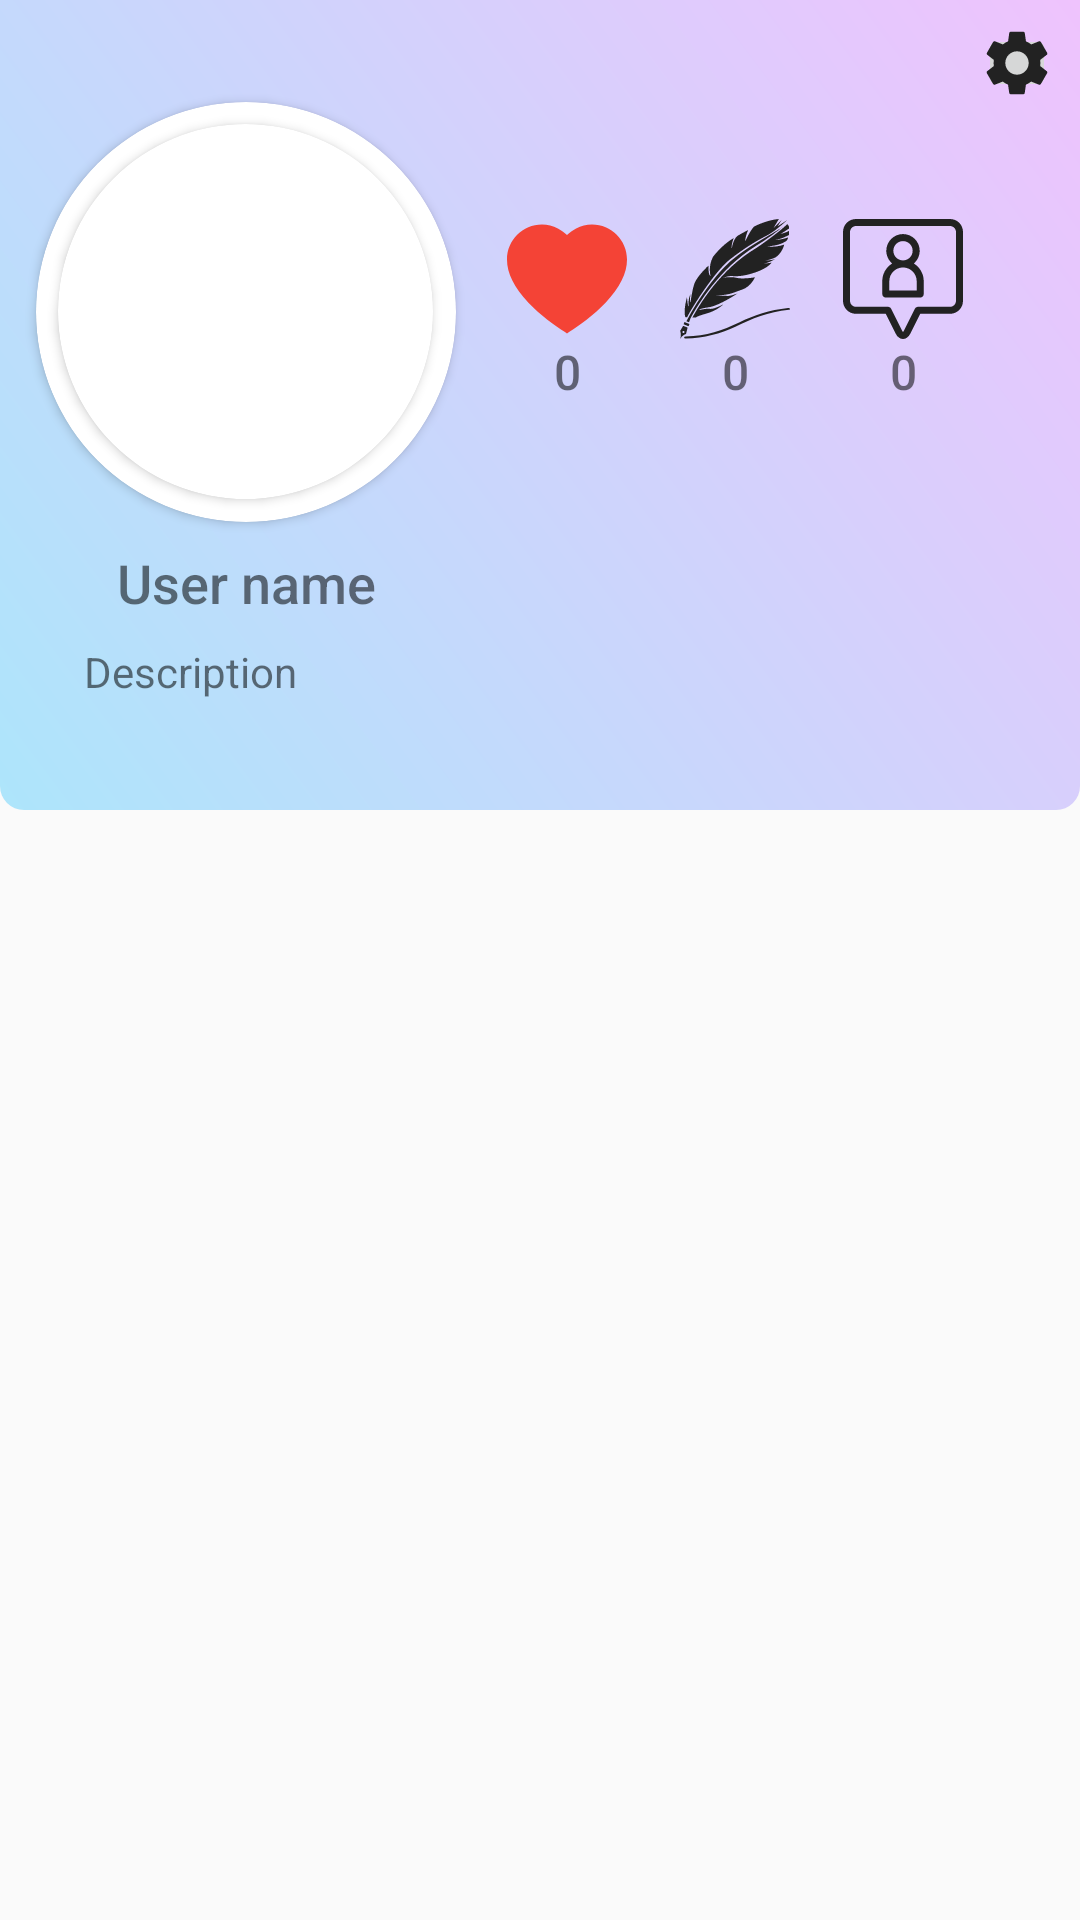

Named icons in this screenshot (1080 × 1920) and their centers, (x=x, y=y):
follower: (x=903, y=279)
heart: (x=567, y=279)
posts written: (x=735, y=279)
Settings: (x=1017, y=63)
